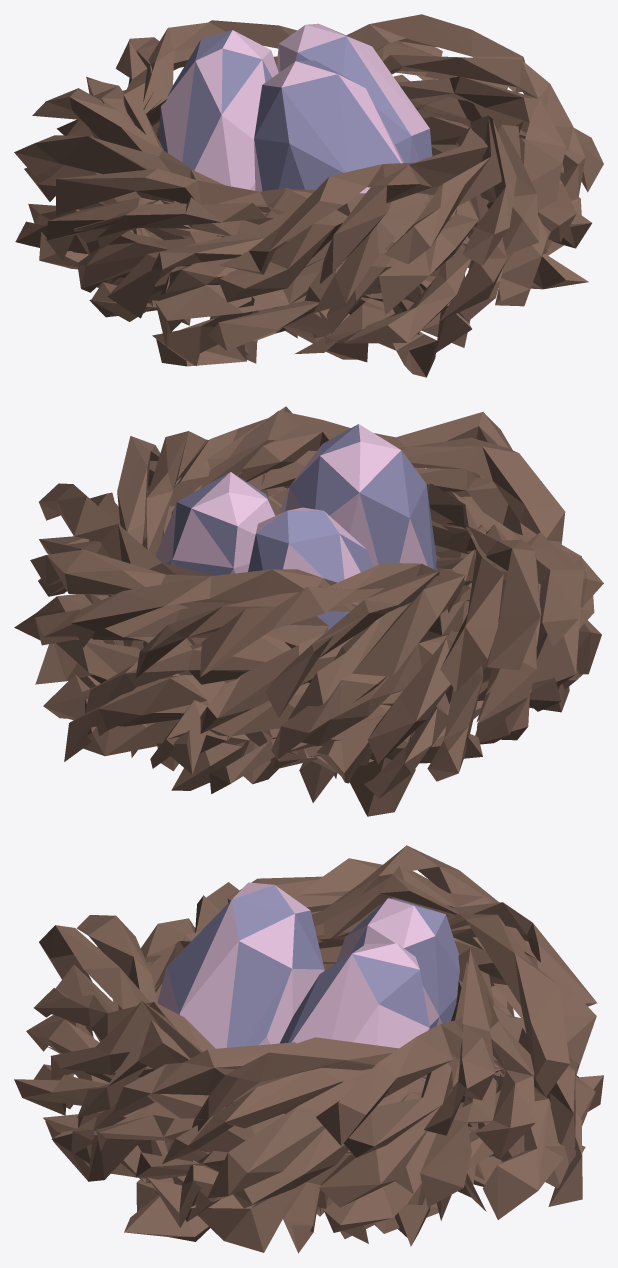
Rendered from Nest_06.fbx.
3 renders of one model, top to bottom at view 1: azimuth 30°, elevation 25°; view 2: azimuth 150°, elevation 25°; view 3: azimuth 270°, elevation 25°, orthographic. The views are drawn at different scales.
Parts seen in each view (by area): view 1: Nest_06_LOD0; view 2: Nest_06_LOD0; view 3: Nest_06_LOD0.
Part boxes in pixels (x1=…): Nest_06_LOD0: x1=14, y1=14, x2=603, y2=377; Nest_06_LOD0: x1=14, y1=406, x2=603, y2=816; Nest_06_LOD0: x1=14, y1=845, x2=603, y2=1253.
Size of what is drawn, in the model's own units: 40.67 by 21.37 by 39.99.
